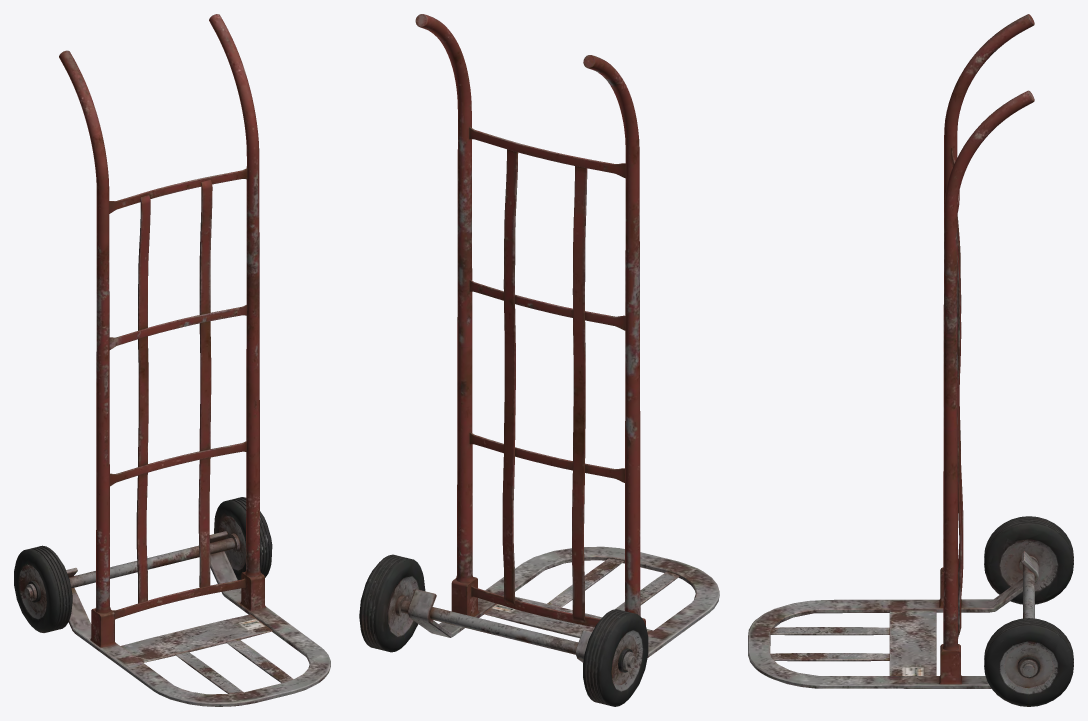
The model's file is hand_truck.glb.
3 views of the same model, side by side, from view 1: azimuth 30°, elevation 25°; view 2: azimuth 150°, elevation 25°; view 3: azimuth 270°, elevation 25° (orthographic). The views are drawn at different scales.
Visible parts, largest first — view 1: hand_truck; view 2: hand_truck; view 3: hand_truck.
Boxes of the visible parts, <box> form: hand_truck: <box>14,14,330,706</box>; hand_truck: <box>359,14,719,706</box>; hand_truck: <box>748,14,1073,706</box>.
Size of the model in its own units: 0.5932 by 1.4 by 0.6923.
Materials: 1 (1 with a texture image).
